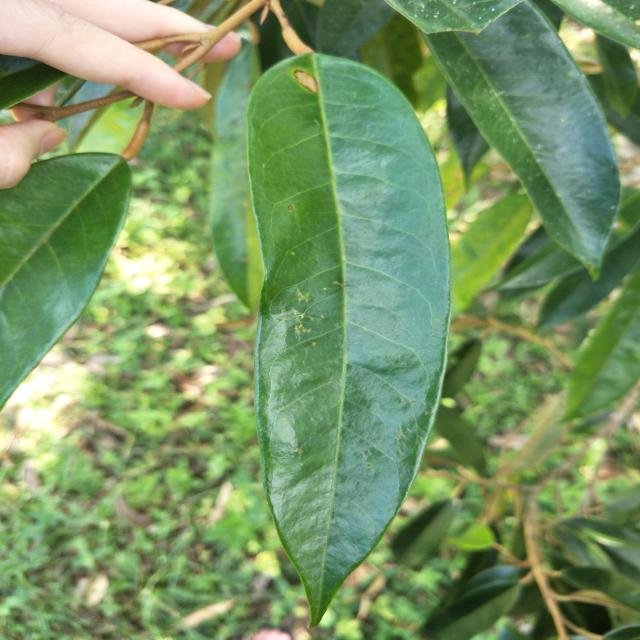Leaf Spot: (269, 264, 345, 353), (275, 65, 324, 98), (279, 184, 308, 224)
